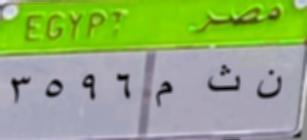3: (5, 72, 33, 110)
5: (41, 74, 66, 103)
6: (113, 68, 133, 107)
9: (80, 70, 99, 106)
meem: (148, 77, 176, 110)
noon: (254, 68, 285, 106)
thaa: (205, 58, 242, 97)
